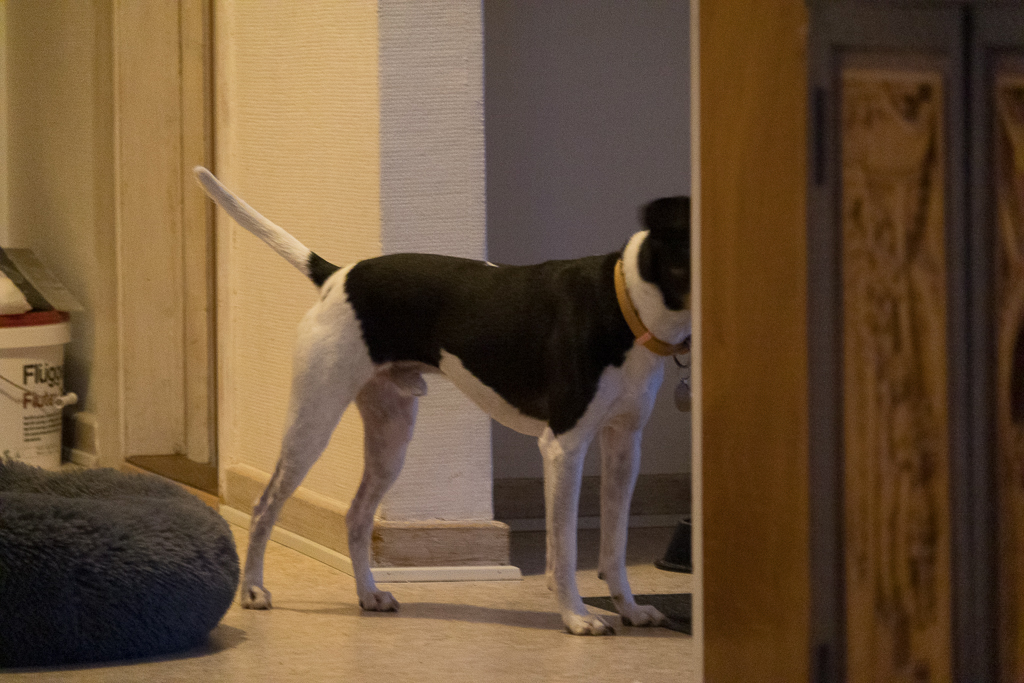Dog: (181, 154, 701, 641)
